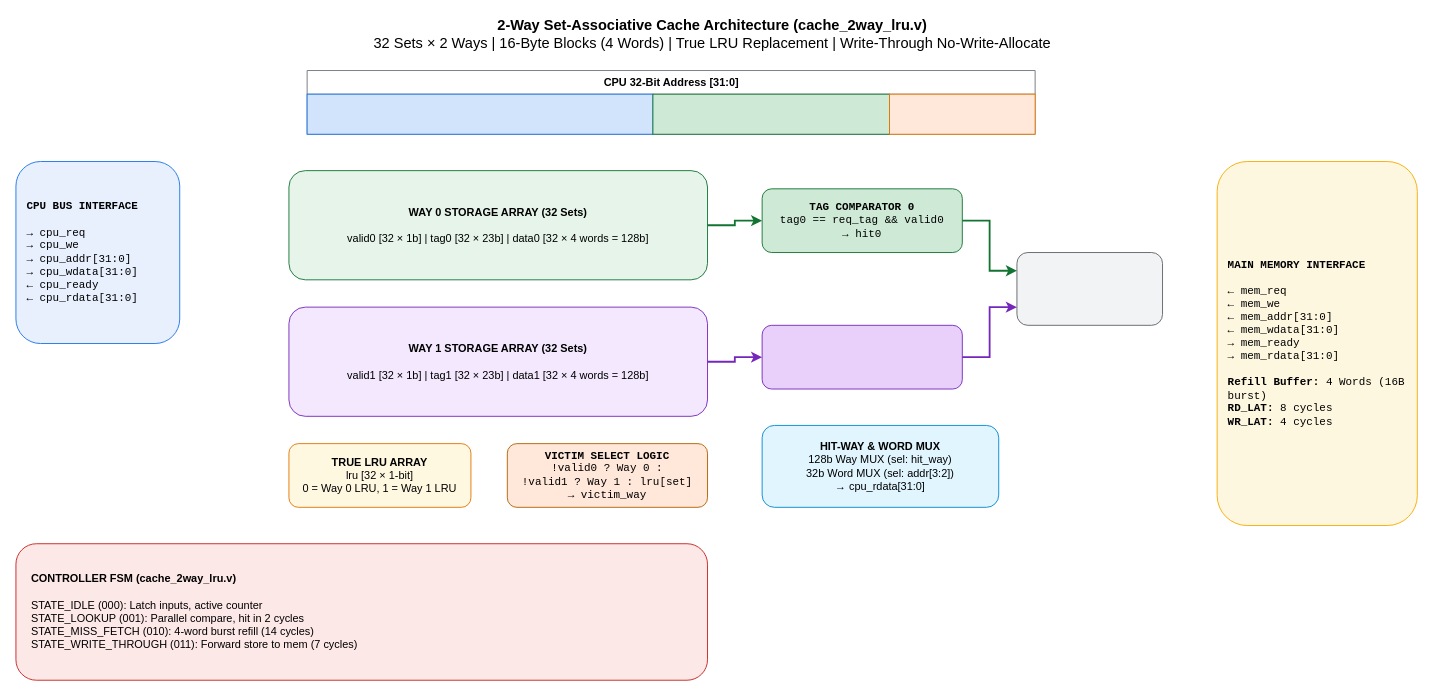
The diagram is 1433 pixels wide and 696 high, and some of its shapes have lost their labels. The shapes that lost their labels are listed below. From the top down, each one's centre as x and y in pixels, then its label:
(479,113): TAG: req_tag = cpu_addr[31:9] (23 bits)
(771,113): INDEX: req_index = cpu_addr[8:4] (5 bits → 32 Sets)
(962,113): OFFSET: [3:0] [3:2] Word | [1:0] Byte
(1089,288): HIT LOGIC hit = hit0 || hit1 hit_way = hit1
(861,356): TAG COMPARATOR 1 tag1 == req_tag && valid1 → hit1
